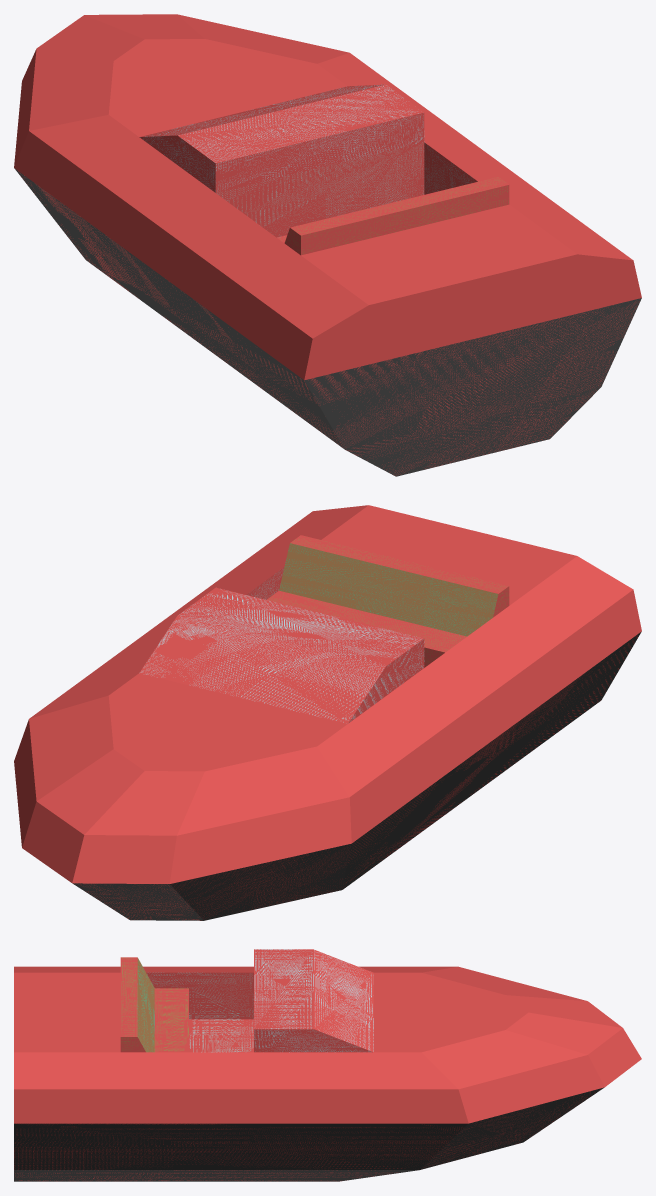
File: boat_015.dae
The picture shows the model from 3 angles, top to bottom: view 1: azimuth 30°, elevation 25°; view 2: azimuth 150°, elevation 25°; view 3: azimuth 270°, elevation 25°; orthographic projection. The views are drawn at different scales.
Visible parts, largest first — view 1: boat_015; view 2: boat_015; view 3: boat_015.
Boxes of the visible parts, x1,y1,x2,y2 form: boat_015: (14, 14, 641, 476); boat_015: (14, 505, 641, 920); boat_015: (14, 949, 641, 1181).
Bounding box in the file's own units: 1.78 × 1.05 × 3.67.
